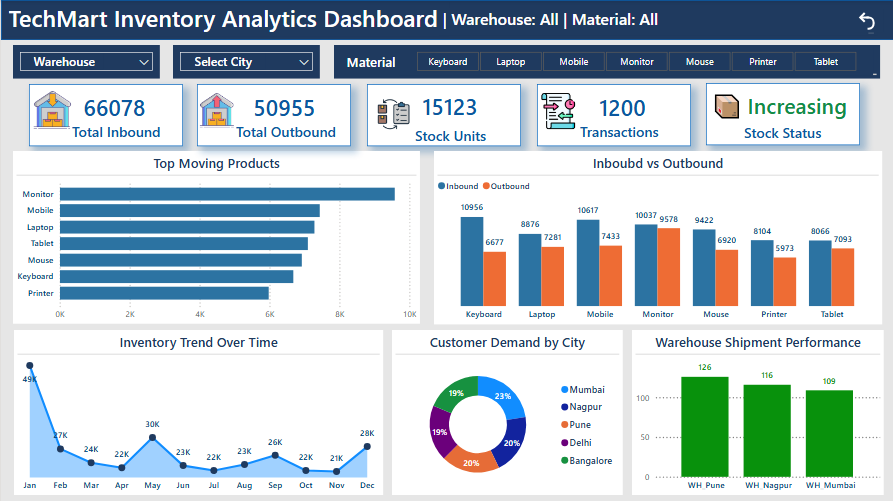

Layout of this report page (visuals, bound fields, positions):
{"tool":"powerbi","page":{"name":"Page 1","canvas":[1280,720],"ordinal":0},"visuals":[{"type":"shape","box":[0,0,1280,57.1],"z":0,"group":"g2"},{"type":"slicer","fields":{"Values":["stock_transactions.warehouse"]},"box":[16.7,64.4,210.2,47.9],"z":0,"group":"g3"},{"type":"textbox","title":"Material","box":[476.5,64.9,781,47.9],"z":0,"group":"g9"},{"type":"group","id":"g1","title":"Group 8","box":[1007.9,119.3,220.1,89],"z":0},{"type":"shape","box":[1007.9,119.3,220.1,89],"z":0,"group":"g4"},{"type":"shape","box":[40.3,119.7,220.1,89],"z":0,"group":"g5"},{"type":"shape","box":[524.1,119.7,220.1,89],"z":0,"group":"g6"},{"type":"shape","box":[766,119.7,220.1,89],"z":0,"group":"g7"},{"type":"shape","box":[280,120.1,220.1,89],"z":0,"group":"g8"},{"type":"group","id":"g2","title":"Group 1","box":[0,0,1280,57.1],"z":1000},{"type":"textbox","title":"TechMart Inventory Analytics Dashboard","box":[5,3.4,635,48.7],"z":1000,"group":"g2"},{"type":"slicer","fields":{"Values":["stock_transactions.city"]},"box":[245.6,64.4,210.2,47.9],"z":1000,"group":"g18"},{"type":"textbox","title":"Warehouse","box":[28.7,76.4,117.9,23.9],"z":1000,"group":"g3"},{"type":"card","fields":{"Values":["stock_transactions.Stock Status"]},"box":[1011.3,121,210,65.5],"z":1000,"group":"g4"},{"type":"card","fields":{"Values":["stock_transactions.net stock"]},"box":[559.2,125.6,151.2,55.4],"z":1000,"group":"g6"},{"type":"card","fields":{"Values":["stock_transactions.Total inbound"]},"box":[75.6,126.4,157.9,55.4],"z":1000,"group":"g5"},{"type":"card","fields":{"Values":["stock_transactions.transactions"]},"box":[801.3,126.4,157.9,55.4],"z":1000,"group":"g7"},{"type":"card","fields":{"Values":["stock_transactions.total outbound"]},"box":[318.6,126.8,157.9,55.4],"z":1000,"group":"g8"},{"type":"group","id":"g3","title":"Group 2","box":[16.7,64.4,210.2,47.9],"z":2000},{"type":"image","box":[45.6,130.2,55.8,54.3],"z":2000,"group":"g5"},{"type":"group","id":"g4","title":"Group 4","box":[1007.9,119.3,220.1,89],"z":2500,"group":"g15"},{"type":"group","id":"g5","title":"Group 4","box":[40.3,119.7,220.1,89],"z":2500,"group":"g10"},{"type":"group","id":"g6","title":"Group 4","box":[524.1,119.7,220.1,89],"z":2500,"group":"g14"},{"type":"group","id":"g7","title":"Group 4","box":[766,119.7,220.1,89],"z":2500,"group":"g16"},{"type":"group","id":"g8","title":"Group 4","box":[280,120.1,220.1,89],"z":2500,"group":"g13"},{"type":"group","id":"g9","title":"Group 3","box":[476.5,64.9,781,47.9],"z":3000,"group":"g17"},{"type":"group","id":"g10","title":"Group 5","box":[40.3,119.7,220.1,89],"z":3000},{"type":"group","id":"g11","title":"Group 7","box":[524.1,119.7,220.1,89],"z":4000},{"type":"group","id":"g12","title":"Group 8","box":[766,119.7,220.1,89],"z":5000},{"type":"clusteredBarChart","title":"Top Moving Products","fields":{"Category":["stock_transactions.material"],"Y":["stock_transactions.total outbound"]},"box":[17.2,216,582.1,247.4],"z":6000},{"type":"group","id":"g13","title":"Group 5","box":[280,120.1,220.1,89],"z":7000},{"type":"textbox","title":"Total Inbound","box":[99.1,168.4,141.1,33.6],"z":7500,"group":"g10"},{"type":"textbox","title":"Transactions","box":[824.8,168.4,141.1,33.6],"z":7500,"group":"g16"},{"type":"textbox","title":"Stock Units","box":[589.6,170.1,127.7,33.6],"z":7500,"group":"g14"},{"type":"textbox","title":"Stock Status","box":[1059.9,169.7,132.7,35.3],"z":8000},{"type":"group","id":"g14","title":"Group 5","box":[524.1,119.7,220.1,89],"z":9000,"group":"g11"},{"type":"clusteredColumnChart","title":"Warehouse Shipment Performance","fields":{"Category":["stock_transactions.warehouse"],"Y":["Count(stock_transactions.outbound_qty)"]},"box":[902.4,472,360.4,236],"z":9000},{"type":"group","id":"g15","title":"Group 5","box":[1007.9,119.3,220.1,89],"z":10000,"group":"g1"},{"type":"group","id":"g16","title":"Group 5","box":[766,119.7,220.1,89],"z":10000,"group":"g12"},{"type":"image","box":[283.2,133,50.1,55.8],"z":10000},{"type":"textbox","title":"Total Outbound","box":[332.9,174.4,163,30],"z":10000,"group":"g13"},{"type":"donutChart","title":"Customer Demand by City","fields":{"Category":["stock_transactions.city"],"Y":["stock_transactions.total outbound"]},"box":[558.8,471.7,329.8,235.8],"z":11000},{"type":"image","box":[534.2,136.5,55.4,52.1],"z":11500,"group":"g11"},{"type":"image","box":[767.7,133.1,57.1,52.1],"z":12000,"group":"g12"},{"type":"lineChart","title":"Inventory Trend Over Time","fields":{"Y":["Sum(stock_transactions.closing_stock)"],"Category":["stock_transactions.Month Short"]},"box":[18.6,472,527.7,236],"z":12000},{"type":"textbox","box":[626.6,11.8,626.6,40.3],"z":13000},{"type":"slicer","fields":{"Values":["stock_transactions.material"]},"box":[568.8,68.3,678.5,41],"z":14000,"group":"g17"},{"type":"clusteredColumnChart","title":"Inboubd vs Outbound ","fields":{"Category":["stock_transactions.material"],"Y":["Sum(stock_transactions.inbound_qty)","Sum(stock_transactions.outbound_qty)"]},"box":[618.6,215.3,640.9,247.8],"z":14000},{"type":"group","id":"g17","title":"Group 9","box":[476.5,64.9,781,47.9],"z":15000},{"type":"actionButton","box":[1221.4,12.9,41.5,34.3],"z":16000},{"type":"textbox","title":"Select City","box":[259,75.3,118.7,24.3],"z":16000,"group":"g18"},{"type":"group","id":"g18","title":"Group 10","box":[245.6,64.4,210.2,47.9],"z":17000}]}

Visuals, with their boxes in screenshot pixels (x1, y1, x2, y2), scaled from the page's 1280x720 canvas onto the 893x501 screenshot:
shape: 0/0/892/40
slicer - stock_transactions.warehouse: 12/45/158/78
"Material" textbox: 332/45/877/78
"Group 8" group: 703/83/857/145
shape: 703/83/857/145
shape: 28/83/182/145
shape: 366/83/519/145
shape: 534/83/688/145
shape: 195/84/349/145
"Group 1" group: 0/0/892/40
"TechMart Inventory Analytics Dashboard" textbox: 3/2/446/36
slicer - stock_transactions.city: 171/45/318/78
"Warehouse" textbox: 20/53/102/70
card - stock_transactions.Stock Status: 706/84/852/130
card - stock_transactions.net stock: 390/87/496/126
card - stock_transactions.Total inbound: 53/88/163/127
card - stock_transactions.transactions: 559/88/669/127
card - stock_transactions.total outbound: 222/88/332/127
"Group 2" group: 12/45/158/78
image: 32/91/71/128
"Group 4" group: 703/83/857/145
"Group 4" group: 28/83/182/145
"Group 4" group: 366/83/519/145
"Group 4" group: 534/83/688/145
"Group 4" group: 195/84/349/145
"Group 3" group: 332/45/877/78
"Group 5" group: 28/83/182/145
"Group 7" group: 366/83/519/145
"Group 8" group: 534/83/688/145
"Top Moving Products" clusteredBarChart: 12/150/418/322
"Group 5" group: 195/84/349/145
"Total Inbound" textbox: 69/117/168/141
"Transactions" textbox: 575/117/674/141
"Stock Units" textbox: 411/118/500/142
"Stock Status" textbox: 739/118/832/143
"Group 5" group: 366/83/519/145
"Warehouse Shipment Performance" clusteredColumnChart: 630/328/881/493
"Group 5" group: 703/83/857/145
"Group 5" group: 534/83/688/145
image: 198/93/233/131
"Total Outbound" textbox: 232/121/346/142
"Customer Demand by City" donutChart: 390/328/620/492
image: 373/95/411/131
image: 536/93/575/129
"Inventory Trend Over Time" lineChart: 13/328/381/493
textbox: 437/8/874/36
slicer - stock_transactions.material: 397/48/870/76
"Inboubd vs Outbound " clusteredColumnChart: 432/150/879/322
"Group 9" group: 332/45/877/78
actionButton: 852/9/881/33
"Select City" textbox: 181/52/264/69
"Group 10" group: 171/45/318/78
